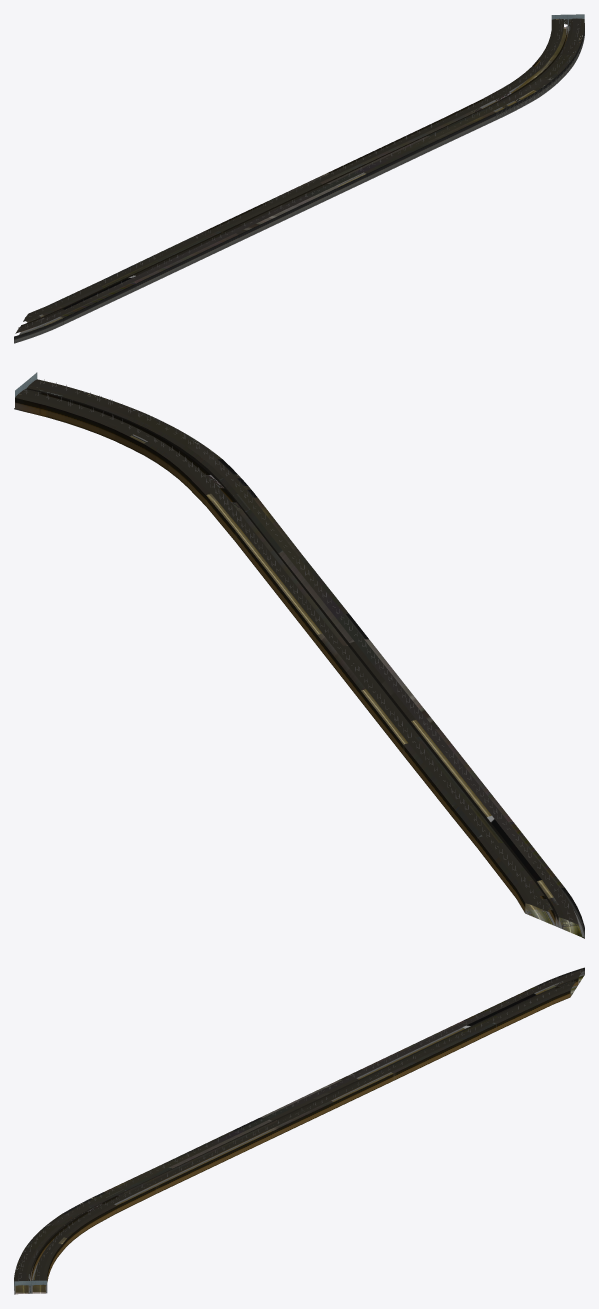
The model's file is roads_context_10.glb.
3 views of the same model, one above another, from view 1: azimuth 90°, elevation 25°; view 2: azimuth 150°, elevation 25°; view 3: azimuth 270°, elevation 25° (orthographic). The views are drawn at different scales.
Parts seen in each view (by area): view 1: I099151826704063A0.001; view 2: I099151826704063A0.001; view 3: I099151826704063A0.001.
Boxes of the visible parts, x1,y1,x2,y2 form: I099151826704063A0.001: (14, 14, 584, 343); I099151826704063A0.001: (14, 372, 584, 938); I099151826704063A0.001: (14, 967, 584, 1294).
Bounding box in the file's own units: 488 × 9.21 × 370.
Materials: 32 (32 with a texture image).
